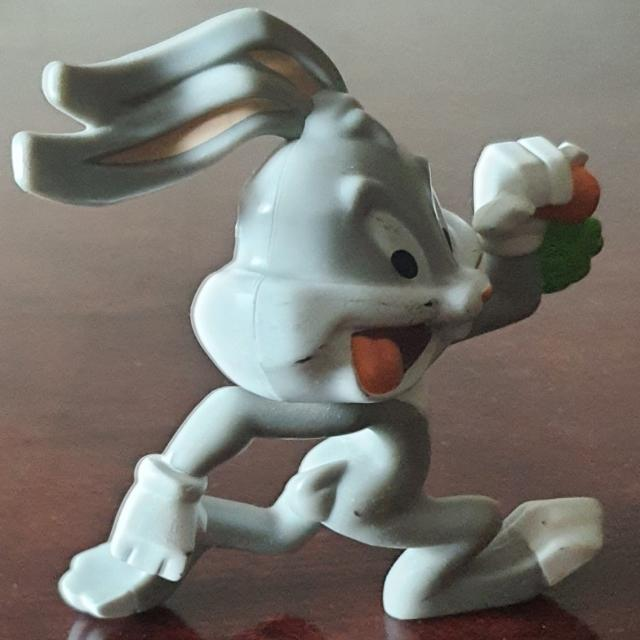Rabbit: (10, 7, 606, 622)
